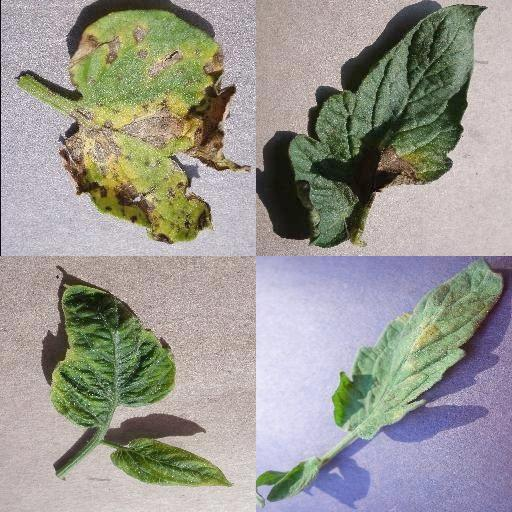Late Blight: (288, 3, 488, 251)
Leaf Mold: (332, 256, 505, 441)
Septoria: (59, 11, 251, 244)
Yellow Leaf Curl Virus: (50, 283, 176, 429), (110, 439, 234, 489)
